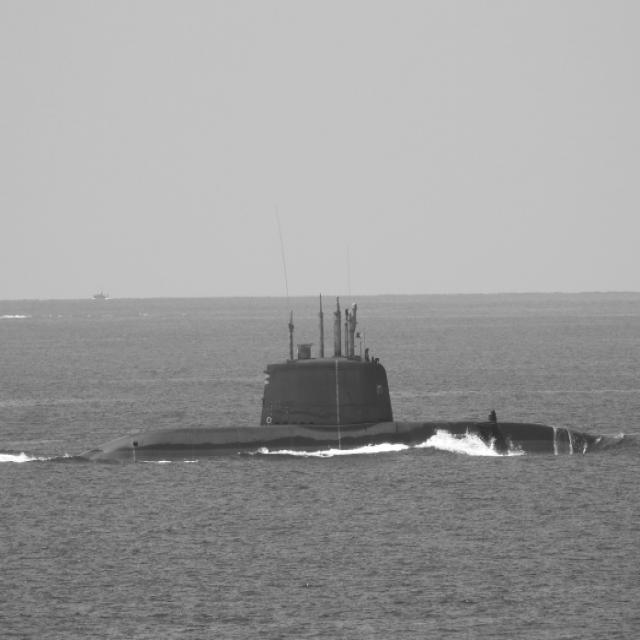submarine: (85, 346, 620, 461)
